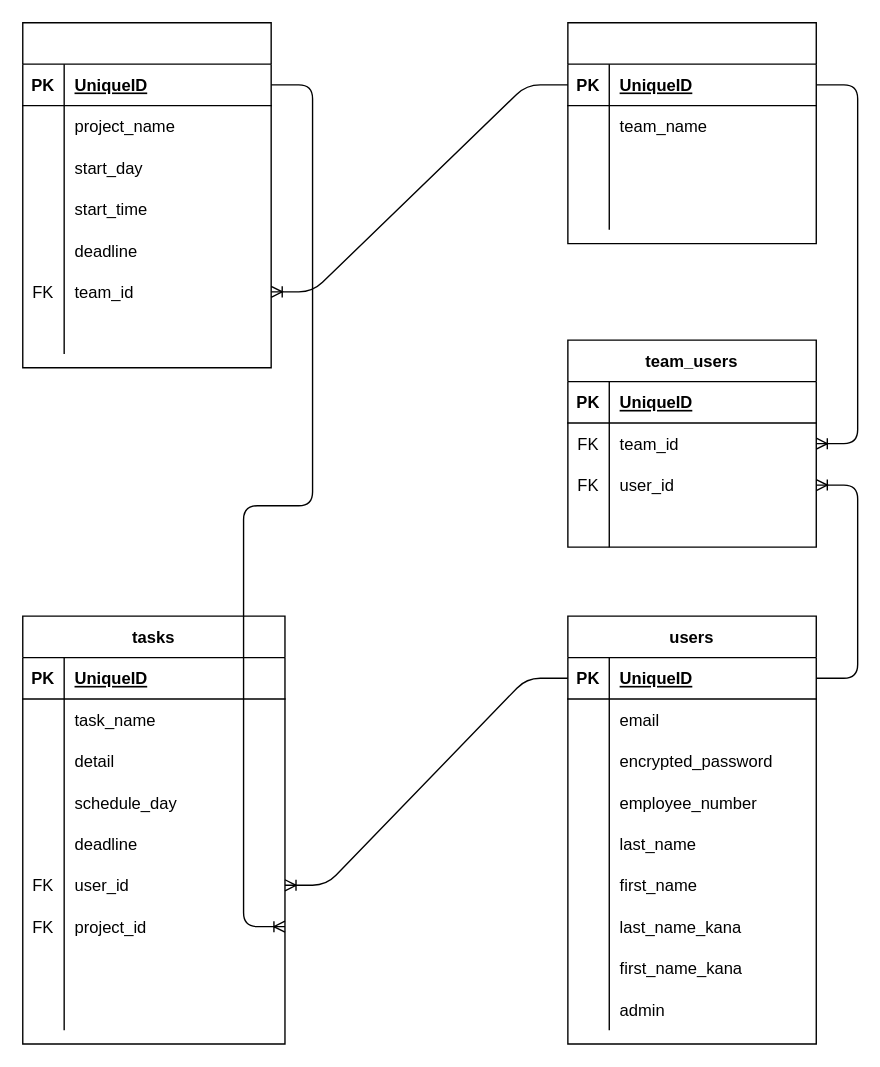
Image size: 880x1067. Some labels were removed from this diagram. Each missing label, with the box of its shape:
projects: (21, 21, 271, 368)
teams: (566, 21, 816, 244)
